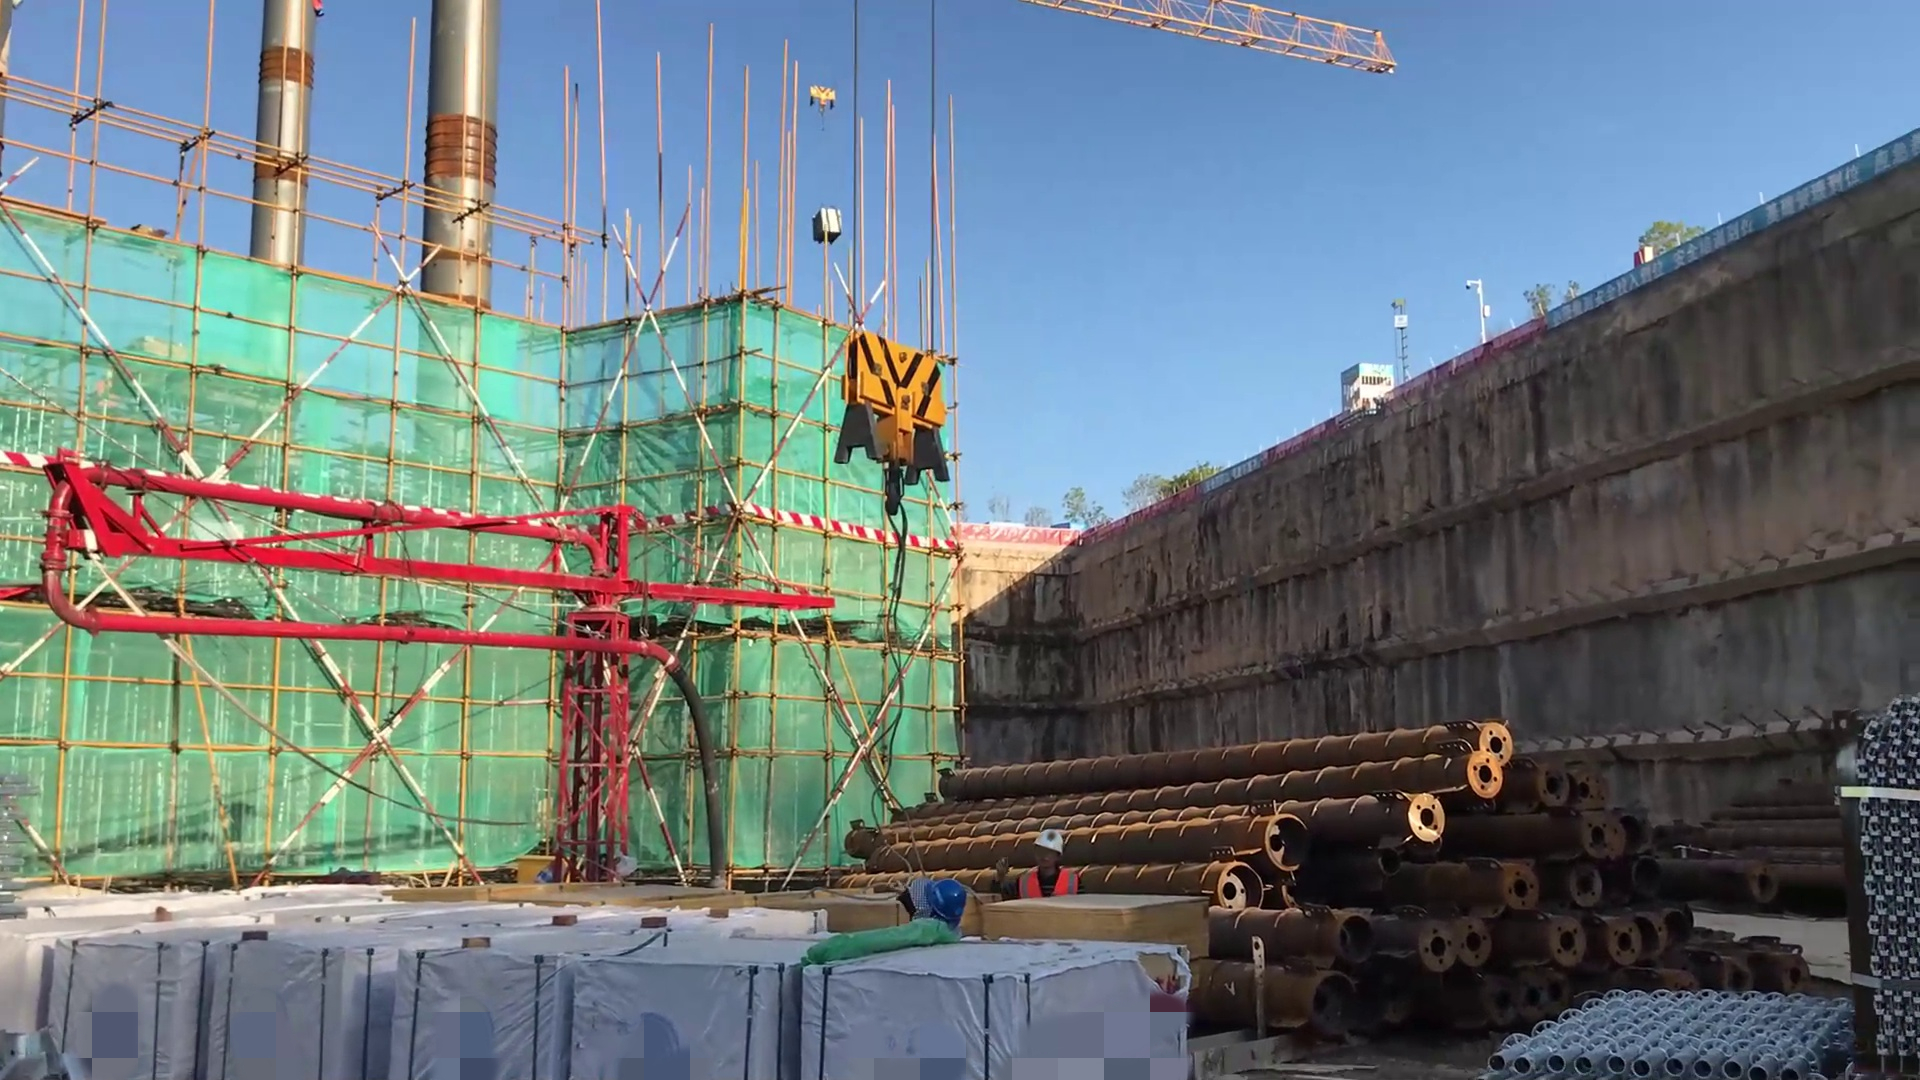board: (977, 891, 1213, 963)
ebox: (516, 855, 588, 883)
helmet: (909, 874, 977, 938), (1026, 826, 1068, 856)
hook: (836, 330, 968, 523), (800, 77, 848, 128)
person: (992, 827, 1092, 924)
scaffold: (1490, 973, 1859, 1080), (1862, 736, 1920, 1066)
slogan: (1536, 122, 1920, 334), (1206, 439, 1269, 498)
vest: (1018, 860, 1086, 915)
